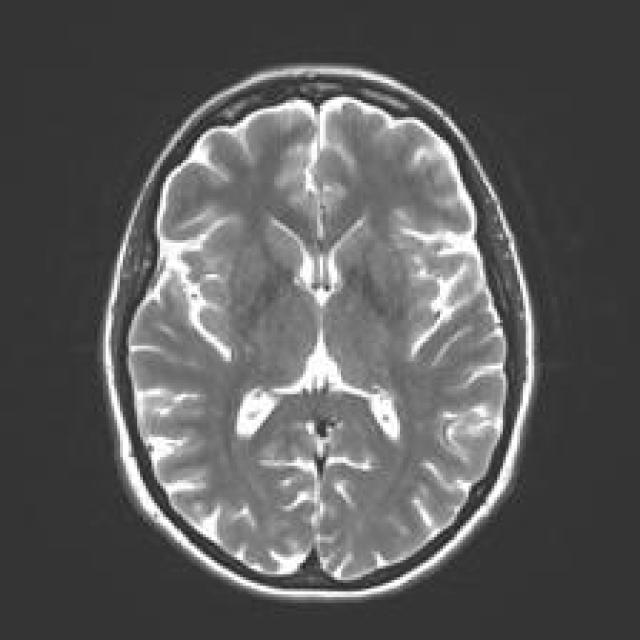no_tumor: (89, 57, 551, 612)
